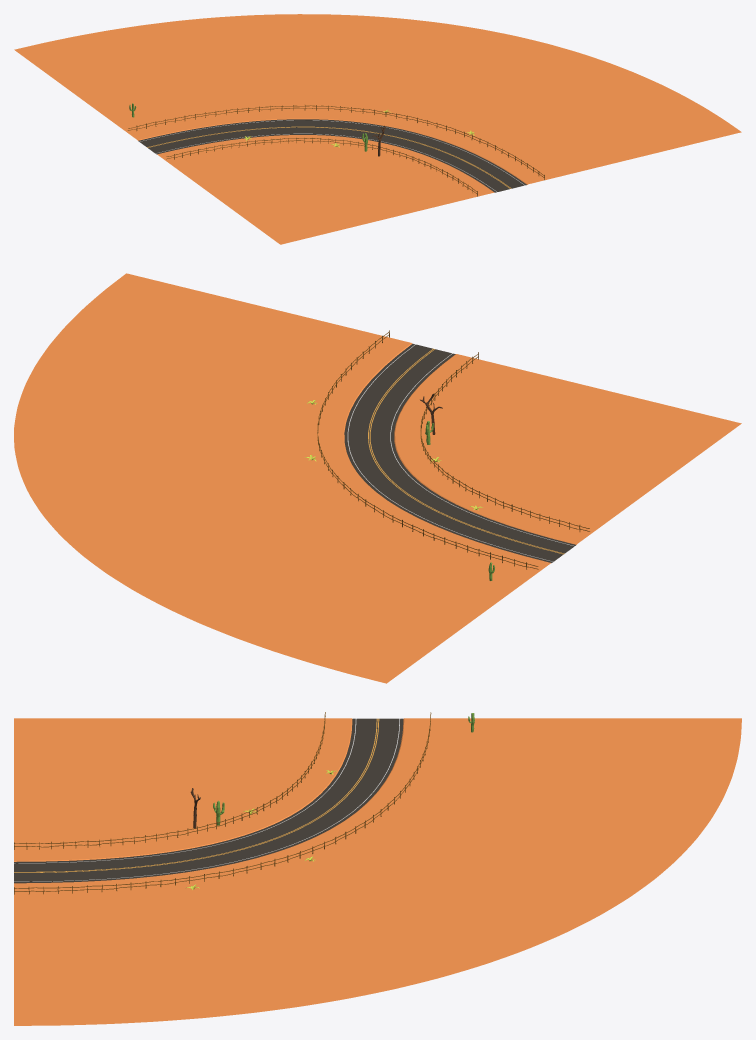
File: DesertRoadRight3.fbx
3 views of the same model, one above another, from view 1: azimuth 30°, elevation 25°; view 2: azimuth 150°, elevation 25°; view 3: azimuth 270°, elevation 25° (orthographic). The views are drawn at different scales.
Parts seen in each view (by area): view 1: DRR3Road, DRR3WoodFenceLeft, DRR3WoodFenceRight; view 2: DRR3Road, DRR3WoodFenceLeft, DRR3WoodFenceRight; view 3: DRR3Road, DRR3WoodFenceLeft, DRR3WoodFenceRight.
Part boxes in pixels (bbox=[...]): DRR3Road: bbox=[14, 14, 741, 244]; DRR3WoodFenceLeft: bbox=[128, 105, 544, 180]; DRR3WoodFenceRight: bbox=[166, 138, 477, 196]; DRR3Road: bbox=[14, 273, 741, 683]; DRR3WoodFenceLeft: bbox=[317, 330, 538, 569]; DRR3WoodFenceRight: bbox=[420, 352, 589, 531]; DRR3Road: bbox=[14, 718, 741, 1025]; DRR3WoodFenceLeft: bbox=[14, 712, 431, 894]; DRR3WoodFenceRight: bbox=[14, 712, 325, 849].
Size of what is drawn, in the model's own units: 20000 by 1276 by 20000.
